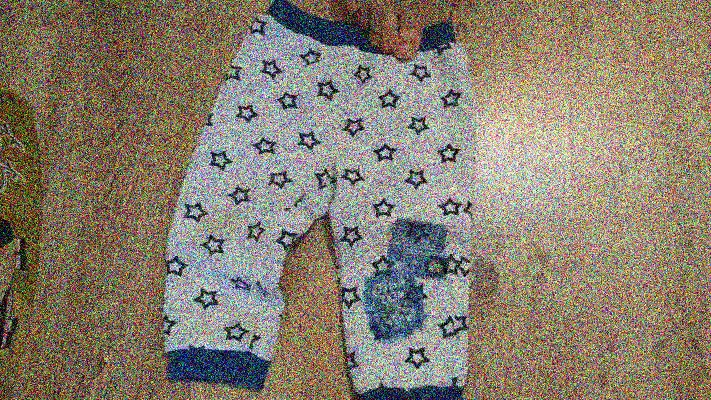Pants: (159, 18, 515, 390)
